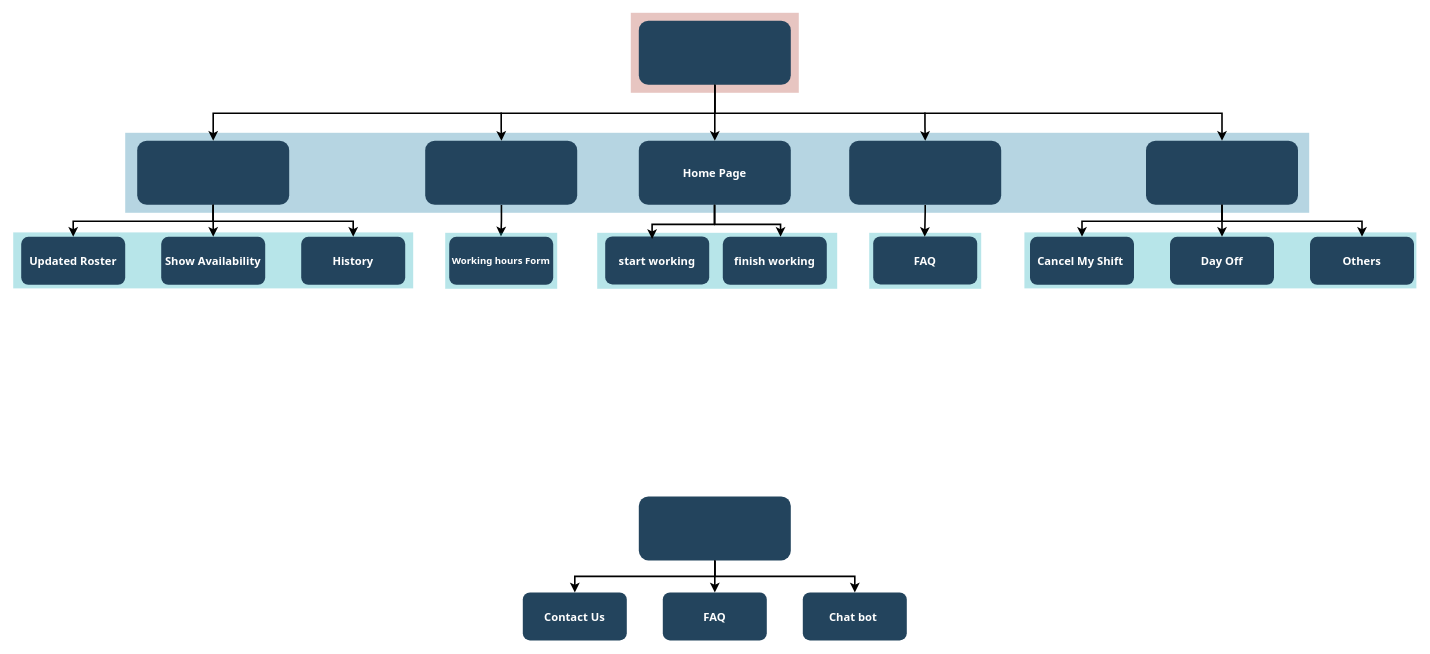
Image size: 1430x654. Some labels were removed from this diagram. The shapes that lost their labels are listed below. From the top down, each one's centre as x and y in pixels, then its label:
At (x=714, y=52): "User Name Password".
At (x=213, y=172): "My Roster".
At (x=501, y=172): "Working hours".
At (x=925, y=172): "News".
At (x=1222, y=172): "Request For".
At (x=714, y=528): "Technical Support".
